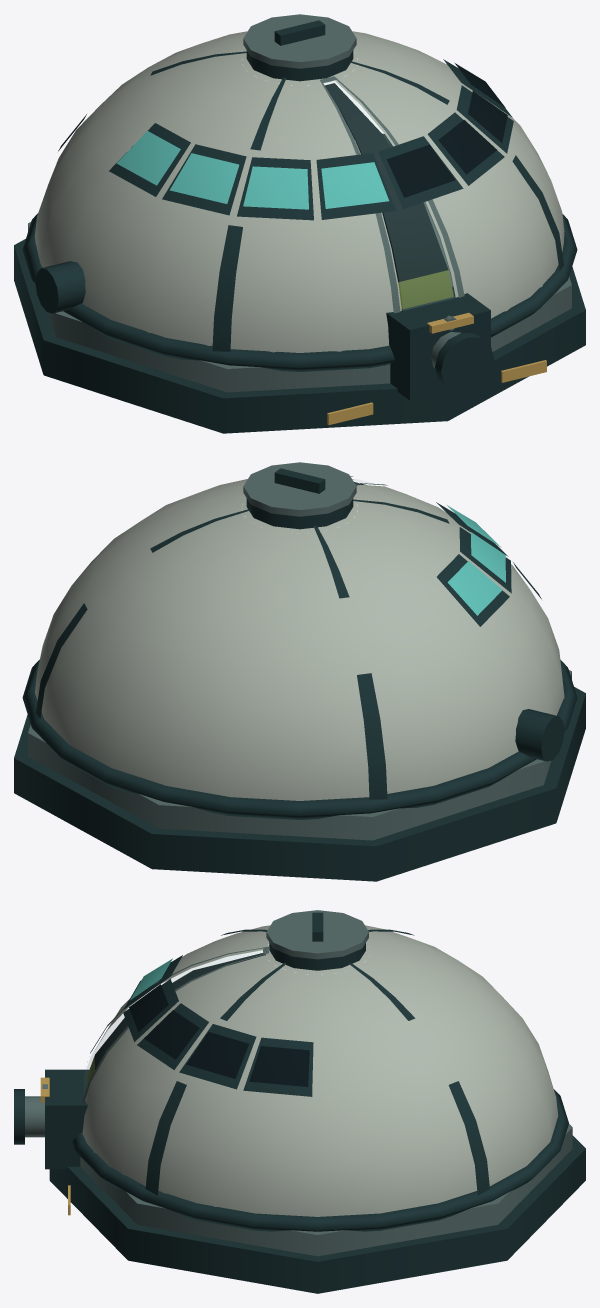
The model's file is yushi037_container_d0_lod1.meshopt.glb.
3 renders of one model, top to bottom at view 1: azimuth 30°, elevation 25°; view 2: azimuth 150°, elevation 25°; view 3: azimuth 270°, elevation 25°, orthographic. The views are drawn at different scales.
Visible parts, largest first — view 1: YUSHI_BODY, YUSHI_GLASS, VALVE_HANDLE; view 2: YUSHI_BODY; view 3: YUSHI_BODY, YUSHI_GLASS.
Part boxes in pixels (x1=…): YUSHI_BODY: x1=14, y1=14, x2=585, y2=433; YUSHI_GLASS: x1=324, y1=81, x2=453, y2=309; VALVE_HANDLE: x1=427, y1=312, x2=473, y2=333; YUSHI_BODY: x1=14, y1=462, x2=585, y2=881; YUSHI_BODY: x1=14, y1=910, x2=585, y2=1293; YUSHI_GLASS: x1=84, y1=950, x2=262, y2=1093.
Size of the model in its own units: 3.66 by 1.94 by 3.9.
